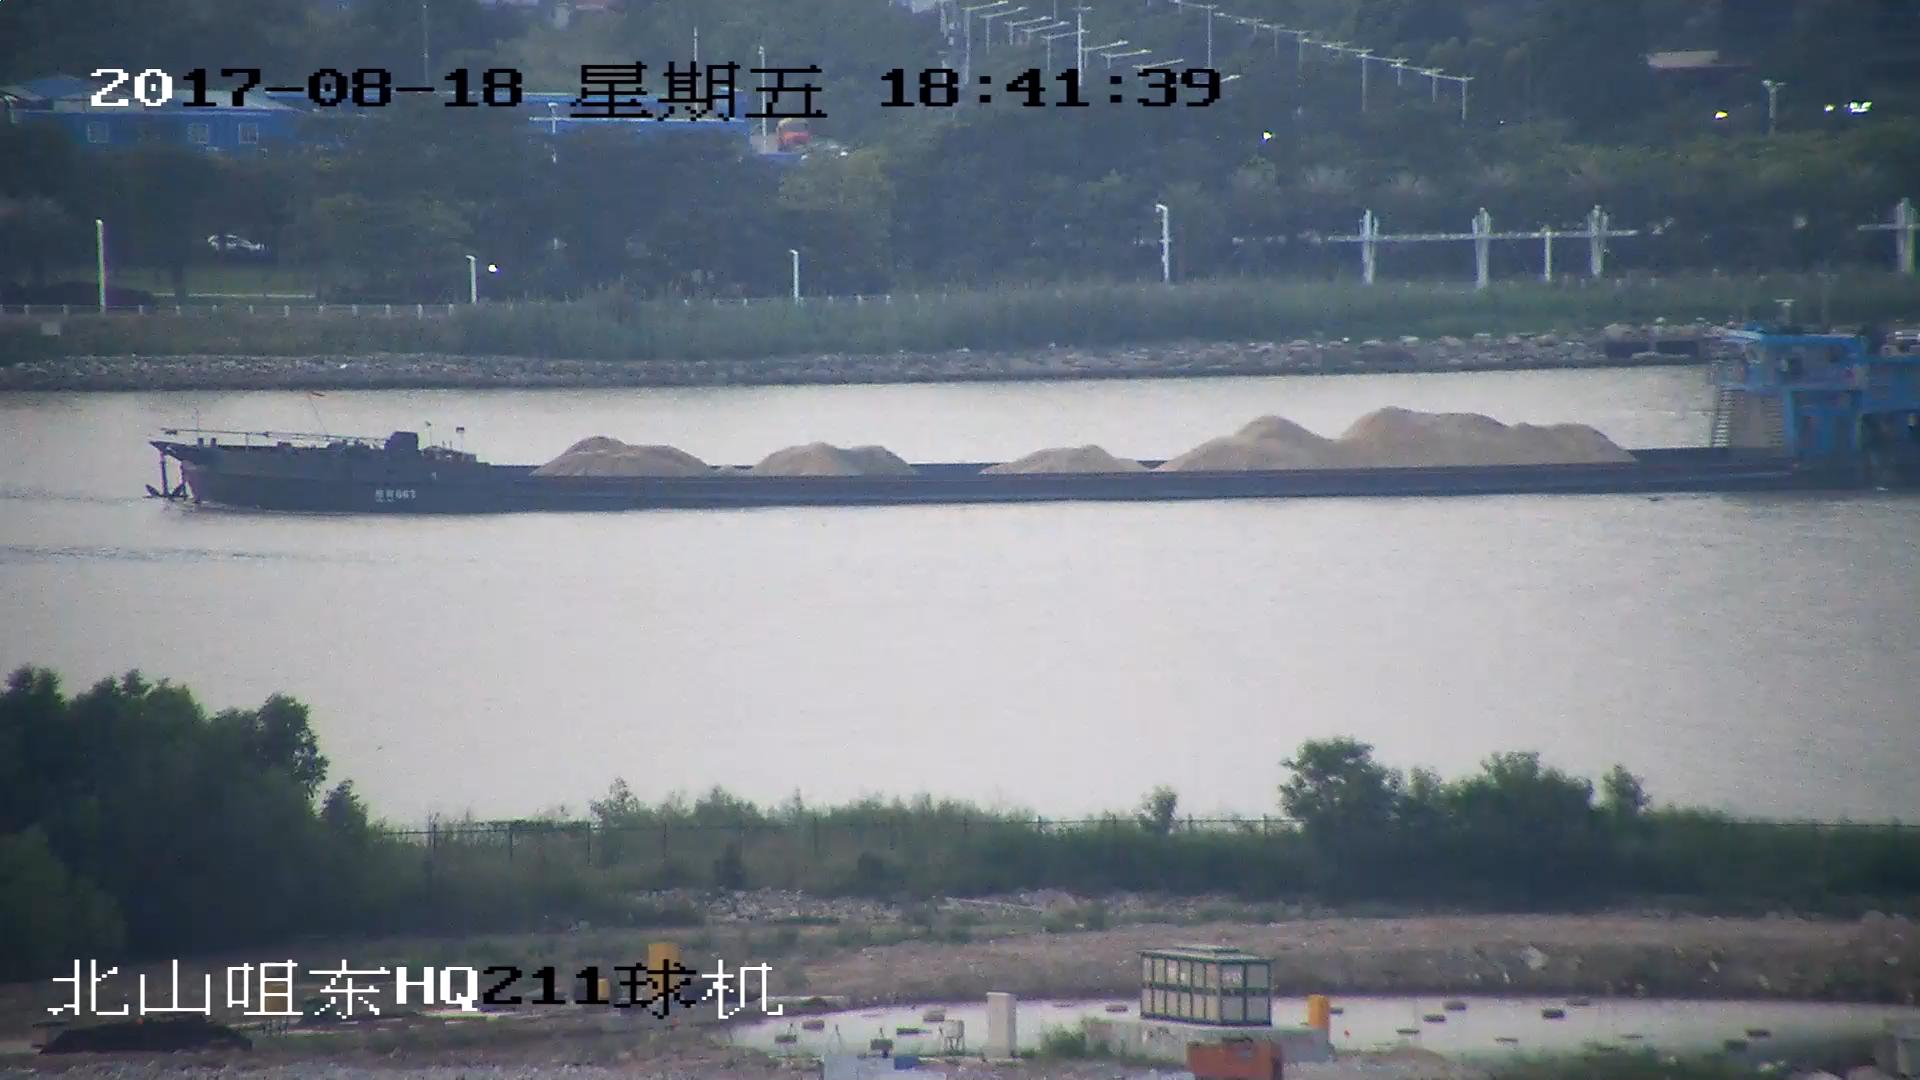ore carrier: (147, 327, 1920, 513)
